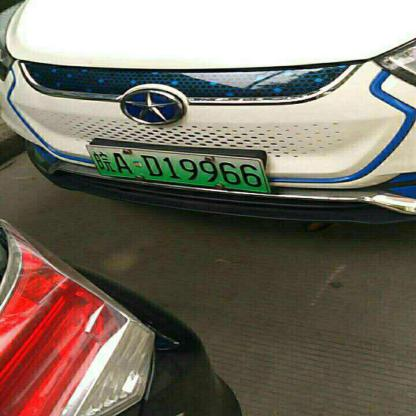lp: (85, 146, 269, 192)
